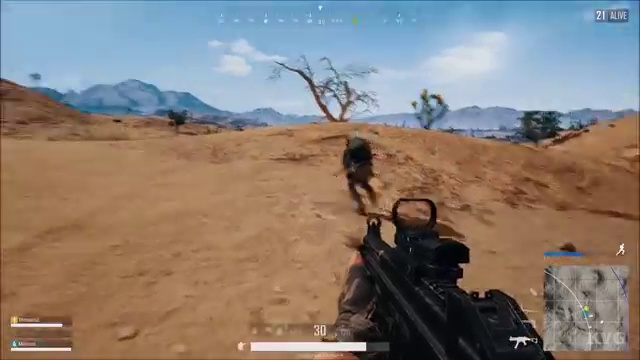Player: (324, 131, 386, 218)
